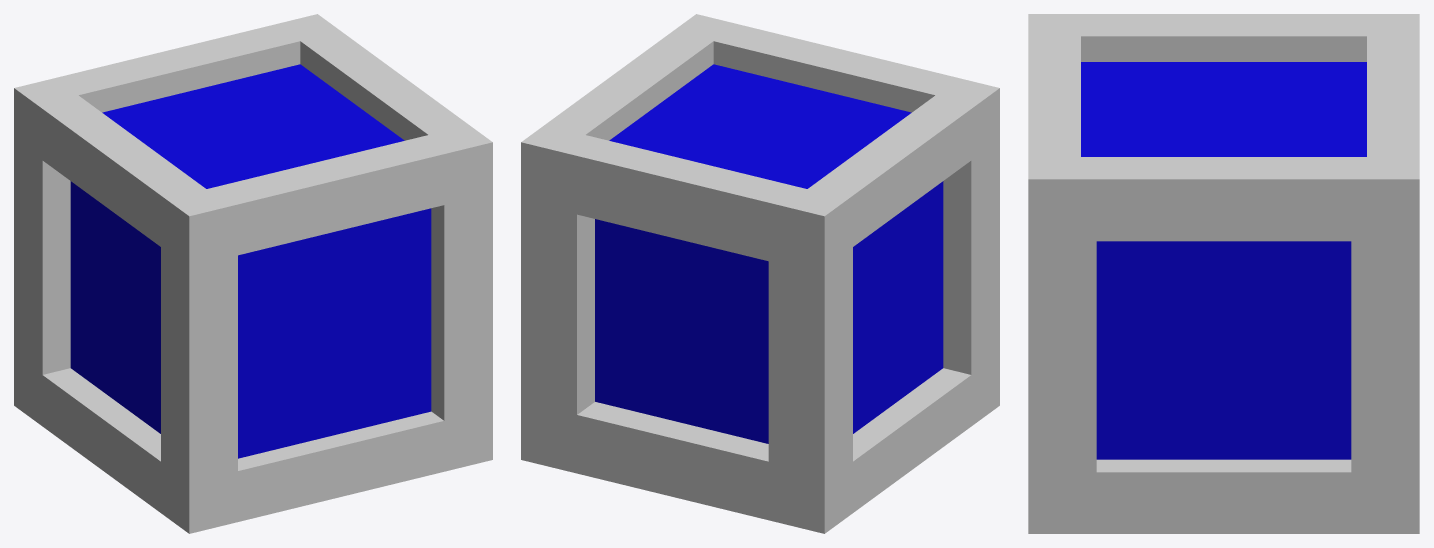
Rendered from heavy_cube.fbx.
3 views of the same model, side by side, from view 1: azimuth 30°, elevation 25°; view 2: azimuth 150°, elevation 25°; view 3: azimuth 270°, elevation 25° (orthographic). The views are drawn at different scales.
Visible parts, largest first — view 1: Cube; view 2: Cube; view 3: Cube.
Boxes of the visible parts, x1,y1,x2,y2 form: Cube: (14, 14, 492, 533); Cube: (521, 14, 999, 533); Cube: (1028, 14, 1419, 533).
Bounding box in the file's own units: 200 × 200 × 200.
